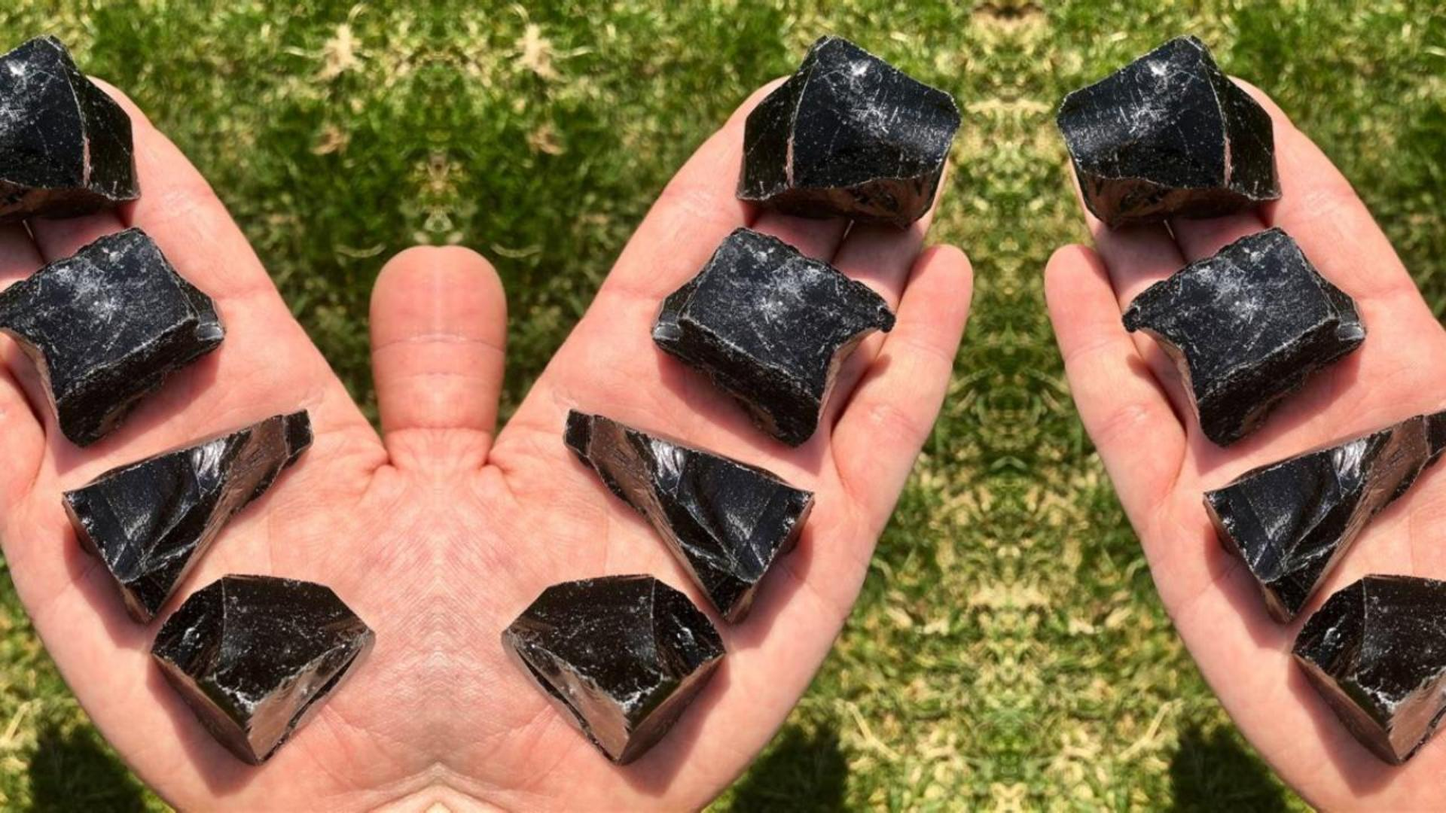rock: (652, 228, 895, 446), (63, 410, 312, 622), (564, 410, 812, 622), (1122, 228, 1364, 445), (1204, 411, 1445, 621), (0, 228, 224, 446), (1056, 35, 1280, 227), (737, 36, 960, 227), (503, 576, 725, 763), (151, 576, 373, 763), (1292, 576, 1445, 762), (0, 36, 138, 218)
